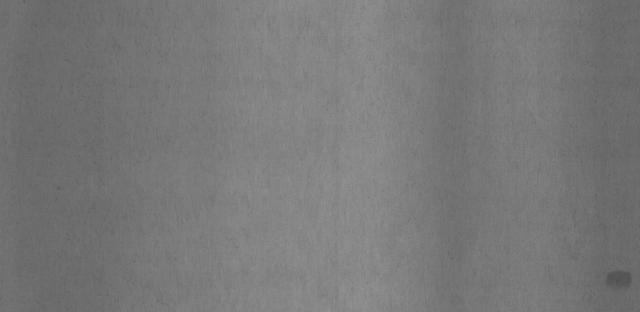oil_spot: (603, 270, 633, 295)
